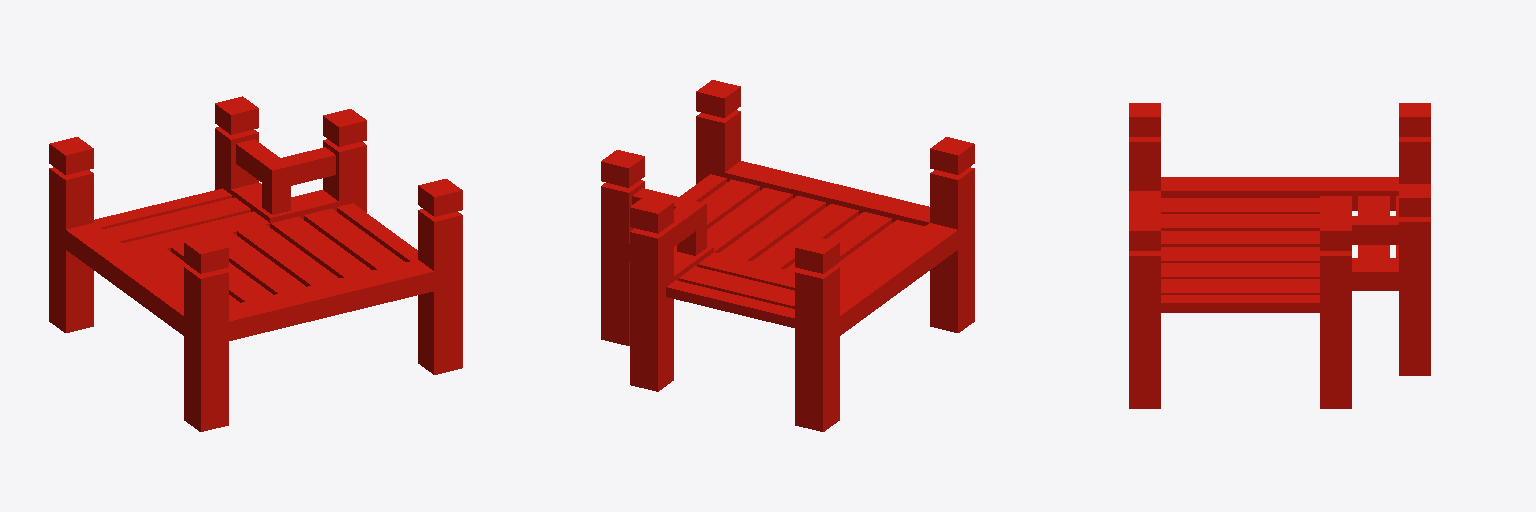
The picture shows the model from 3 angles: view 1: azimuth 30°, elevation 25°; view 2: azimuth 150°, elevation 25°; view 3: azimuth 270°, elevation 25°; orthographic projection.
Visible parts, largest first — view 1: cube; view 2: cube; view 3: cube.
Part boxes in pixels (x1,y1,x2,y2): cube: (49,96,462,431); cube: (601,80,974,431); cube: (1129,103,1430,408).
Size of the model in its own units: 0.8672 by 0.5625 by 0.8672.
Materials: 1 (1 with a texture image).